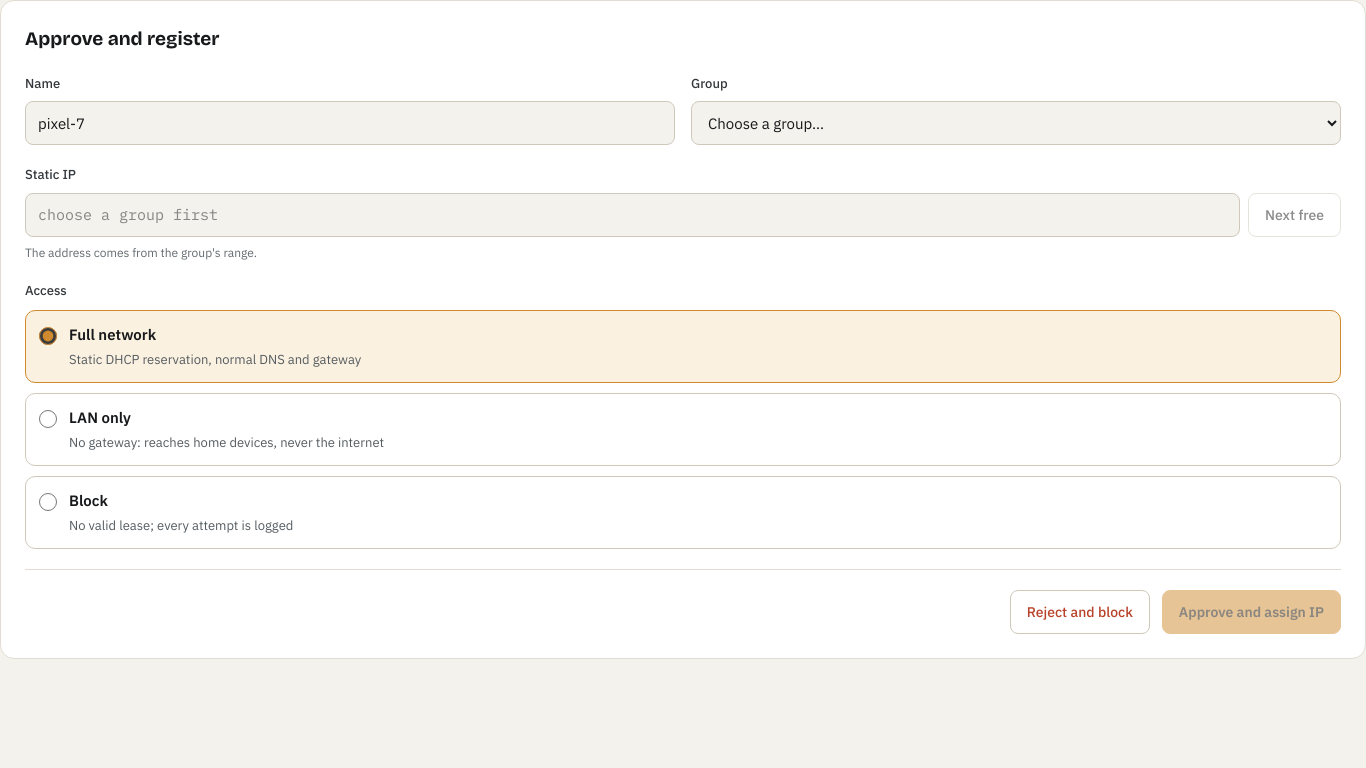
Test: ApproveForm › follows the group's default access and shows backend errors
Select "Power meters" in the dropdown labelled "Group" at (1016, 123), box [691,101,1341,145]
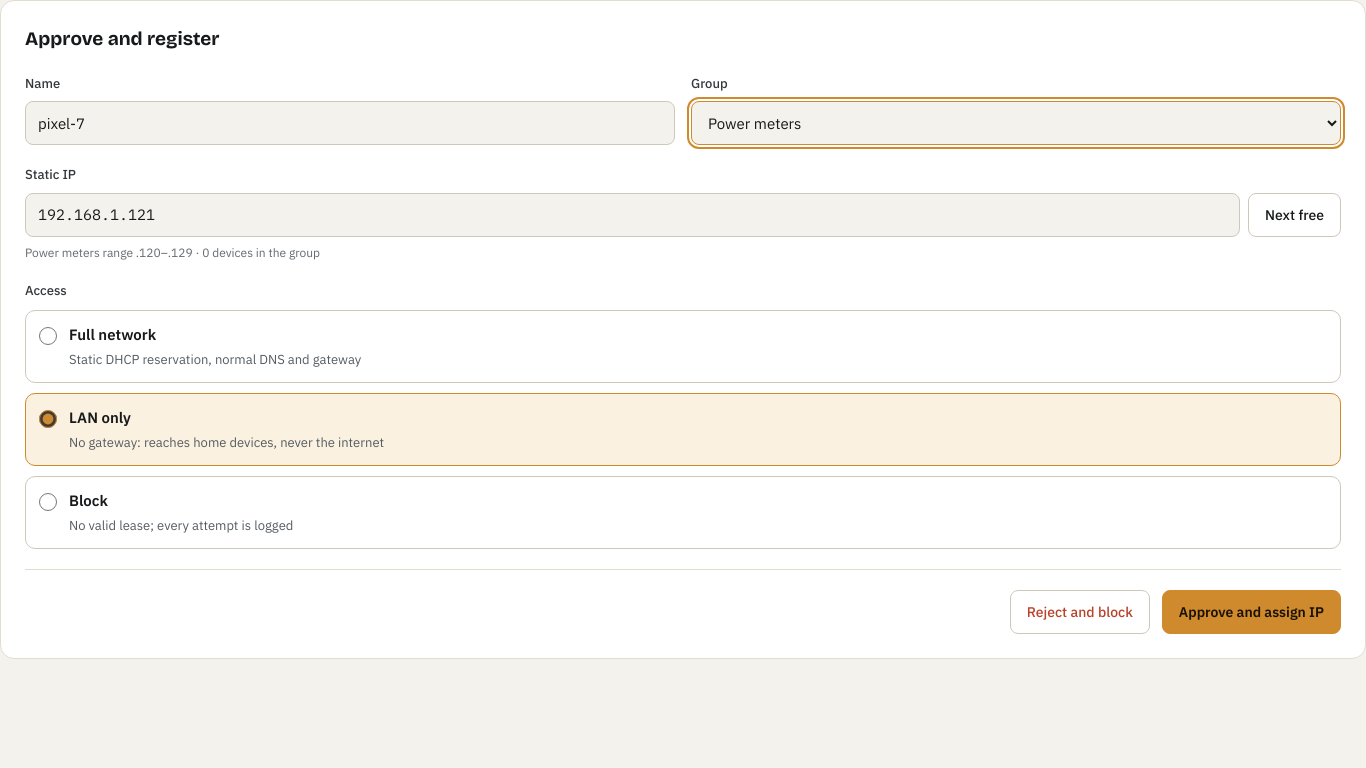
Expected: the radio button labelled "LAN only" is checked, [39,410,57,428]
Expected: the field labelled "Static IP" holds "192.168.1.121", [25,192,1240,236]
Click the button "Approve and assign IP" at (1251, 612), box [1162,590,1341,634]
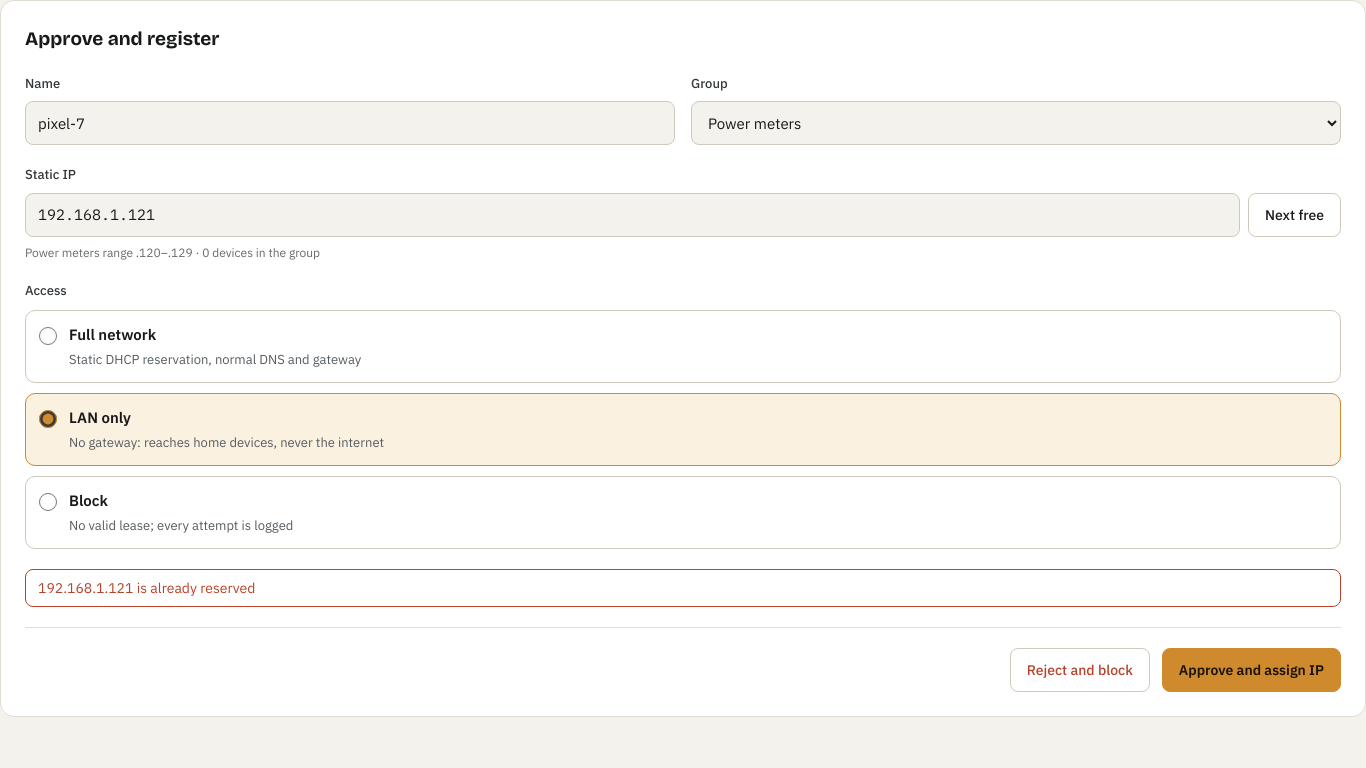
Expected: the message reads "192.168.1.121 is already reserved", [38,579,255,597]
